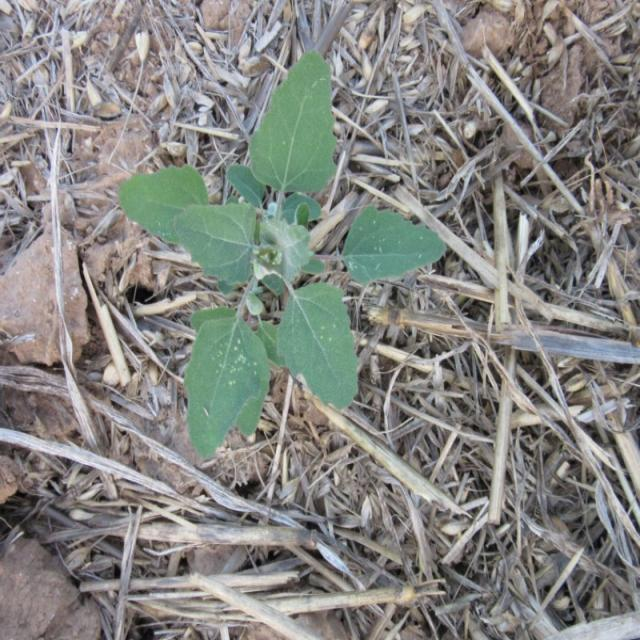ca: (120, 53, 448, 454)
